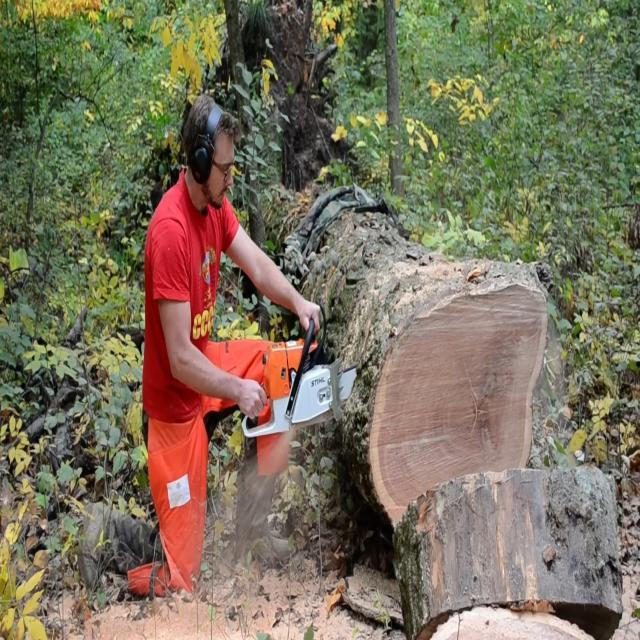Chainsaw: (226, 288, 382, 457)
